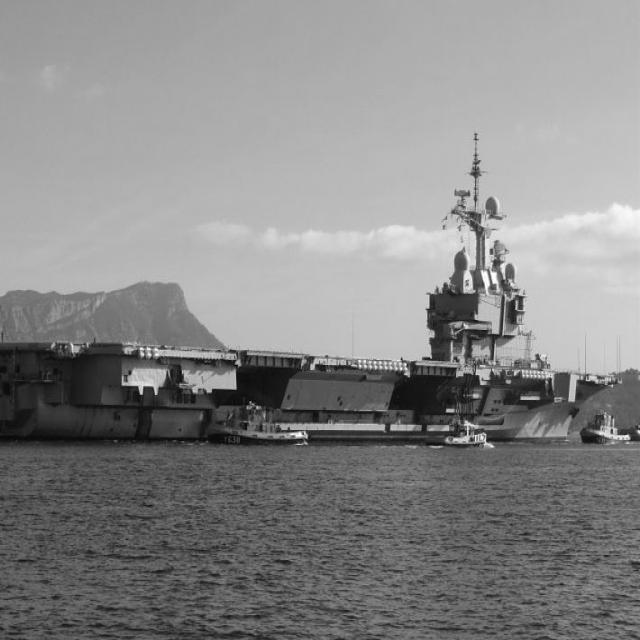Portanaves: (1, 130, 631, 450)
